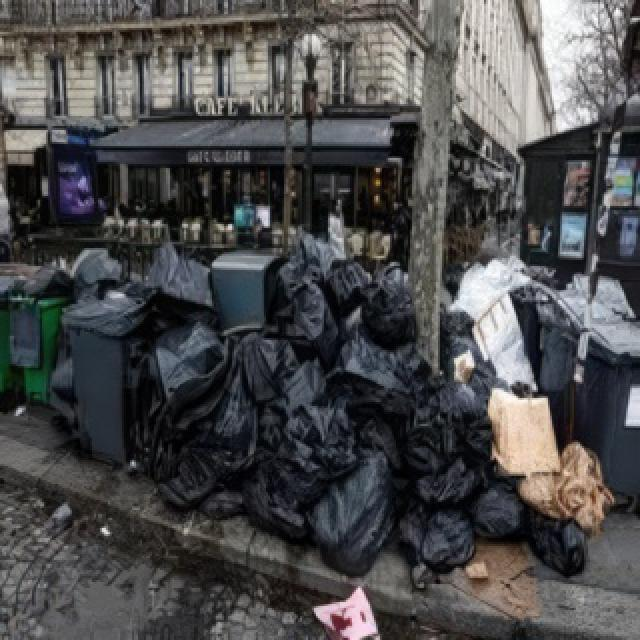Trashbag: (215, 334, 331, 544), (126, 324, 230, 511), (408, 390, 494, 502), (320, 456, 390, 572), (281, 244, 364, 338), (338, 341, 430, 415), (406, 510, 486, 570), (361, 261, 417, 345), (520, 519, 586, 573), (480, 491, 524, 536)
